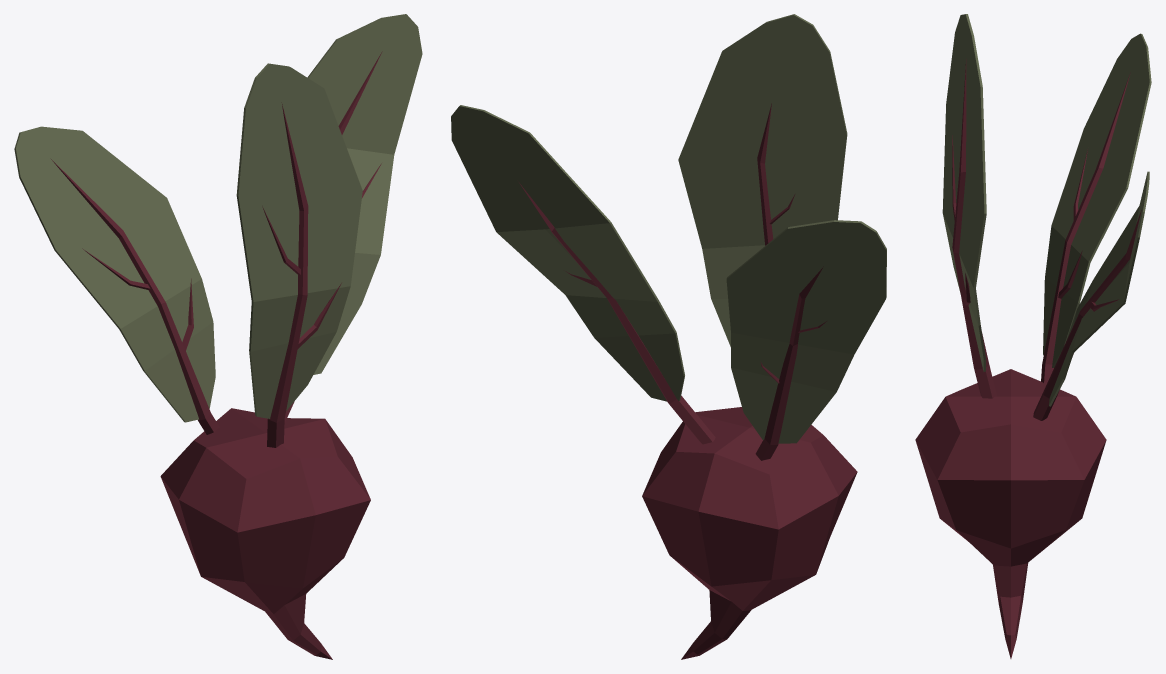
The model's file is Beet_4.gltf.
The picture shows the model from 3 angles, left to right: view 1: azimuth 30°, elevation 25°; view 2: azimuth 150°, elevation 25°; view 3: azimuth 270°, elevation 25°; orthographic projection. The views are drawn at different scales.
Parts seen in each view (by area): view 1: Beet_4; view 2: Beet_4; view 3: Beet_4.
Part boxes in pixels (x1=…): Beet_4: x1=14, y1=14, x2=422, y2=659; Beet_4: x1=451, y1=14, x2=886, y2=659; Beet_4: x1=915, y1=14, x2=1151, y2=658.
Size of the model in its own units: 0.7512 by 1.1 by 0.3899.
